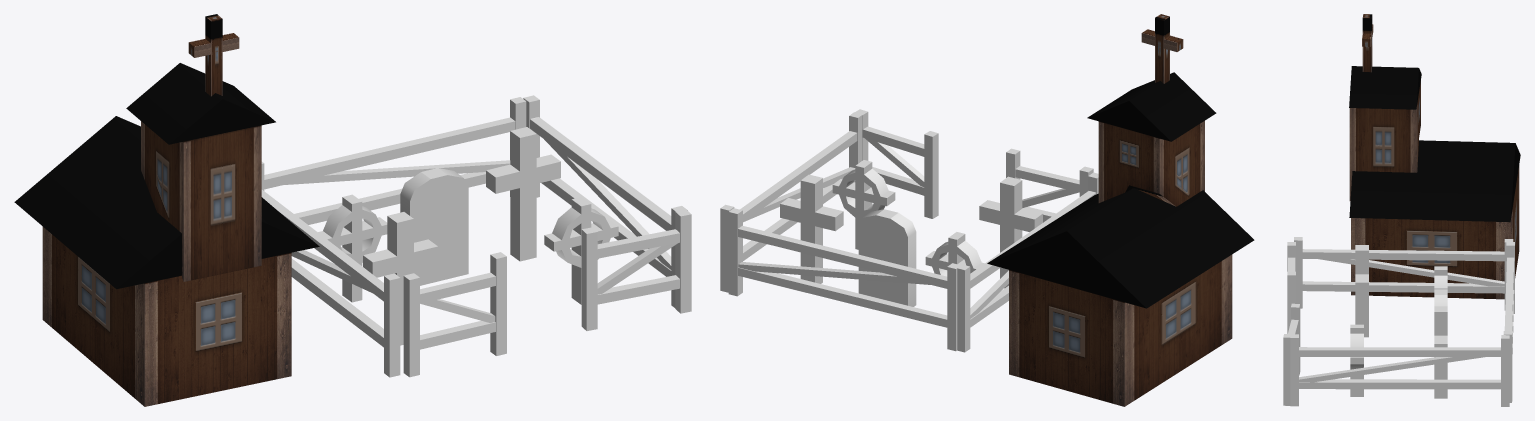
File: kyrka.FBX
The picture shows the model from 3 angles, left to right: view 1: azimuth 30°, elevation 25°; view 2: azimuth 150°, elevation 25°; view 3: azimuth 270°, elevation 25°; orthographic projection. The views are drawn at different scales.
Parts seen in each view (by area): view 1: kyrka, aitaus, hautaus; view 2: kyrka, aitaus, hautaus; view 3: kyrka, aitaus, hautaus.
Boxes of the visible parts, box(x1,y1,x2,y2) form: kyrka: box(14, 14, 319, 406); aitaus: box(261, 95, 691, 377); hautaus: box(318, 127, 618, 345); kyrka: box(987, 14, 1254, 406); aitaus: box(720, 109, 1098, 352); hautaus: box(780, 160, 1042, 306); kyrka: box(1349, 14, 1520, 299); aitaus: box(1283, 237, 1514, 406); hautaus: box(1350, 245, 1447, 398).
Size of the model in its own units: 538 by 359 by 301.
